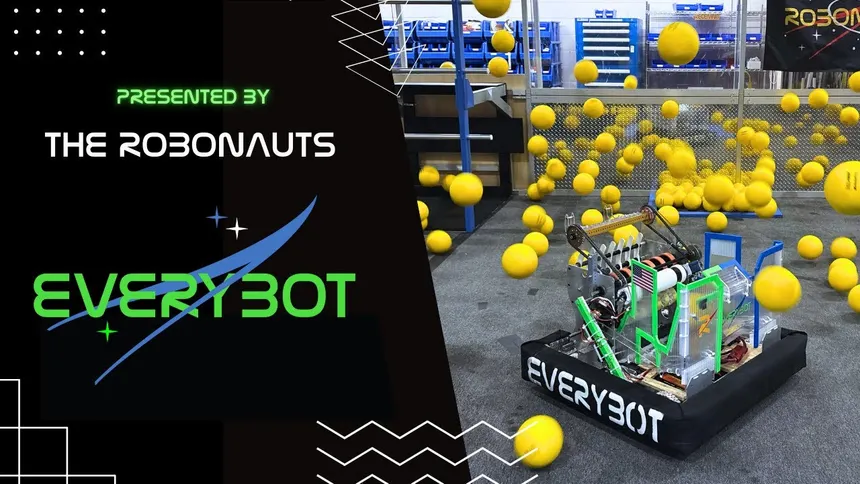frc-robot: (502, 171, 841, 484)
